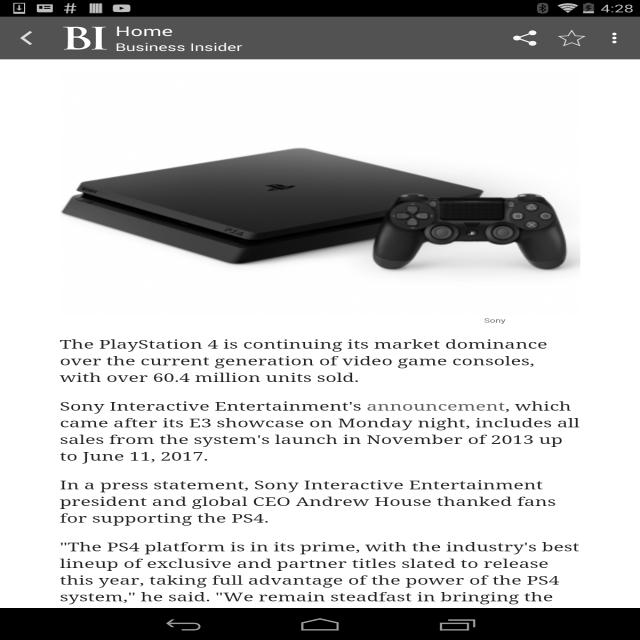ImageButton: (0, 19, 60, 57)
ImageView: (60, 22, 111, 54), (589, 22, 640, 54), (495, 26, 555, 50), (554, 27, 588, 49)
TextView: (115, 40, 242, 54), (115, 22, 173, 40)
